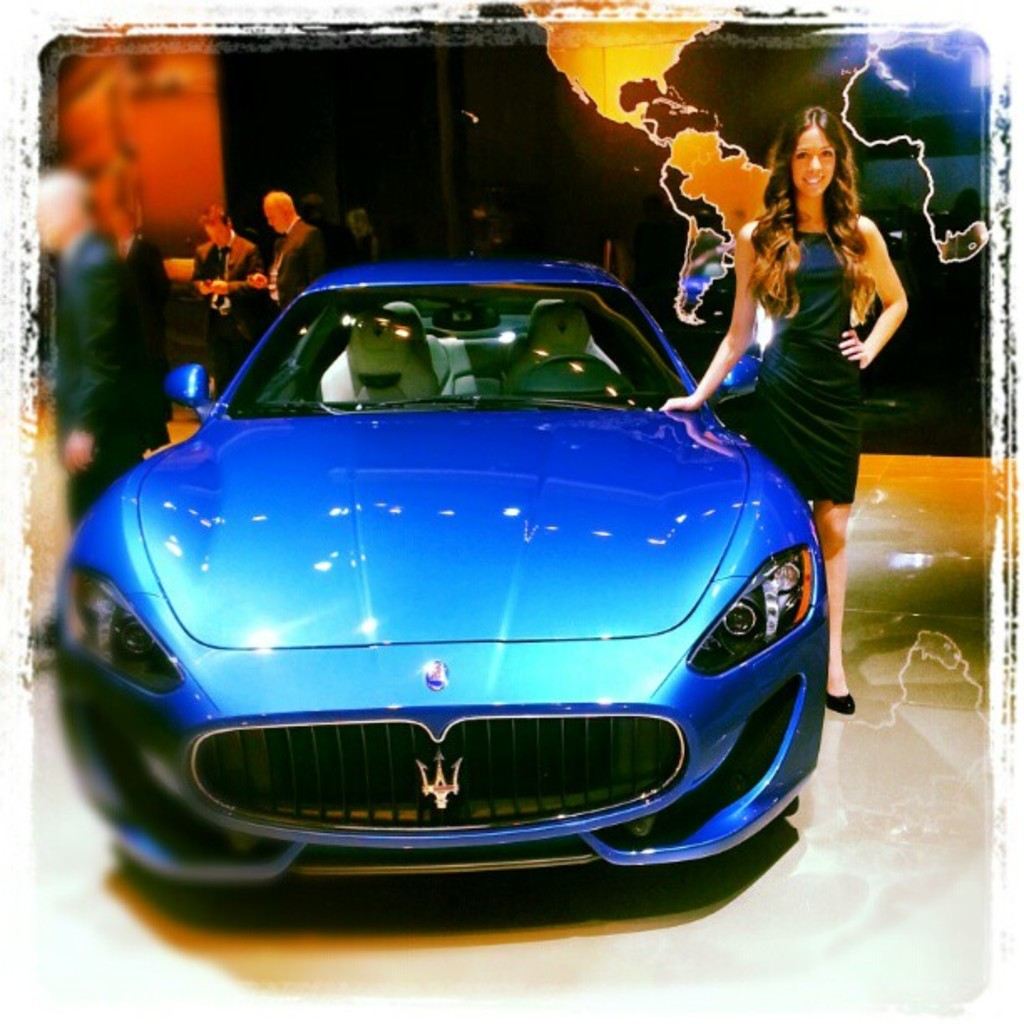Car: (57, 257, 829, 883)
